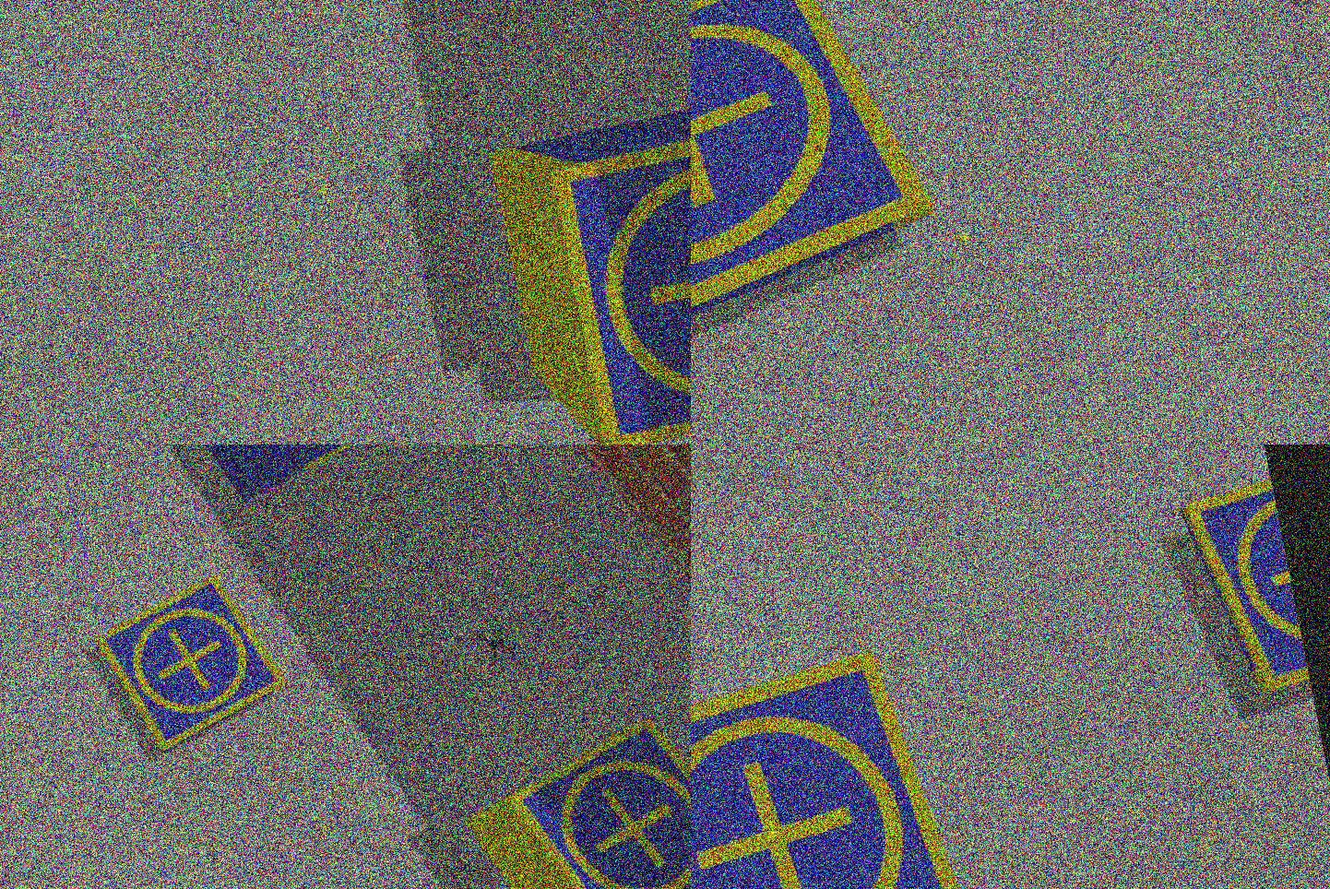large_base: (149, 445, 493, 516)
small_base: (692, 1, 956, 391), (692, 645, 992, 889), (548, 109, 692, 445), (86, 568, 296, 762), (501, 705, 692, 889), (1176, 476, 1312, 709)
